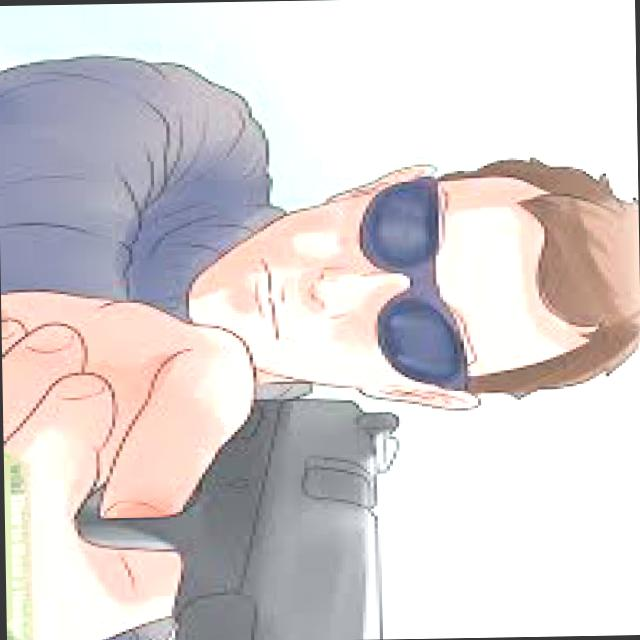handgun: (64, 389, 415, 639)
